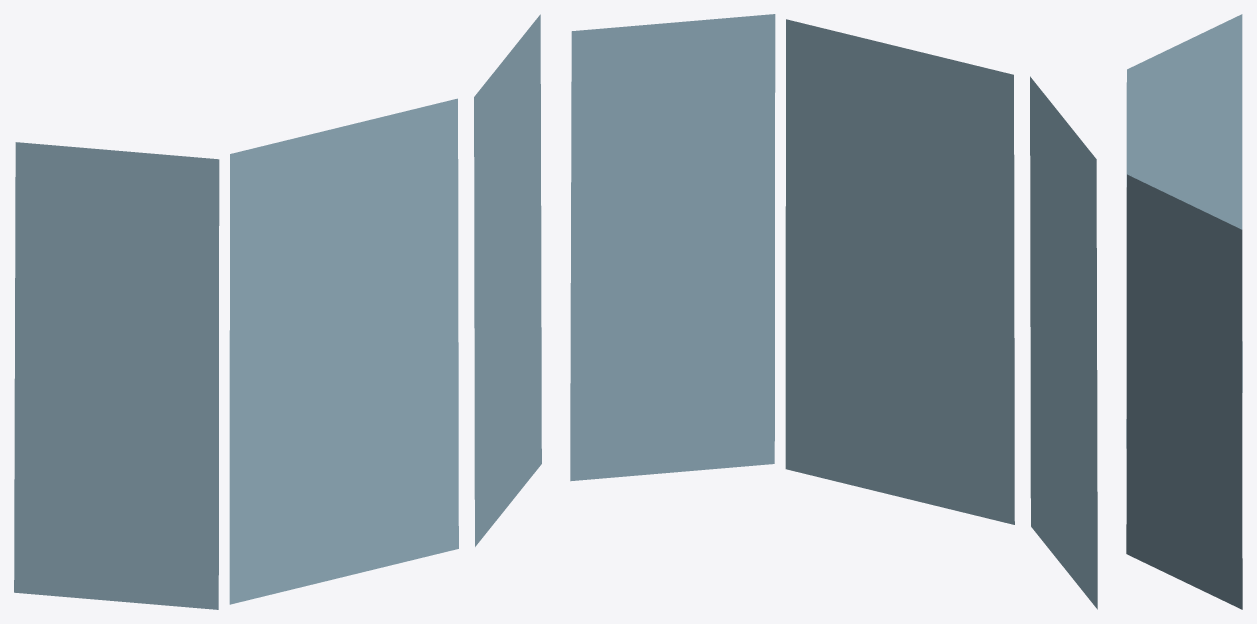
The model's file is FairyTale142.gltf.
The picture shows the model from 3 angles, left to right: view 1: azimuth 30°, elevation 25°; view 2: azimuth 150°, elevation 25°; view 3: azimuth 270°, elevation 25°; orthographic projection. The views are drawn at different scales.
Parts seen in each view (by area): view 1: 网格.254_2; view 2: 网格.254_2; view 3: 网格.254_2.
Part boxes in pixels (x1,y1,x2,y2): 网格.254_2: (14, 14, 541, 609); 网格.254_2: (570, 14, 1097, 609); 网格.254_2: (1126, 14, 1242, 609).
Size of the model in its own units: 1.91 by 1.56 by 0.4323.
